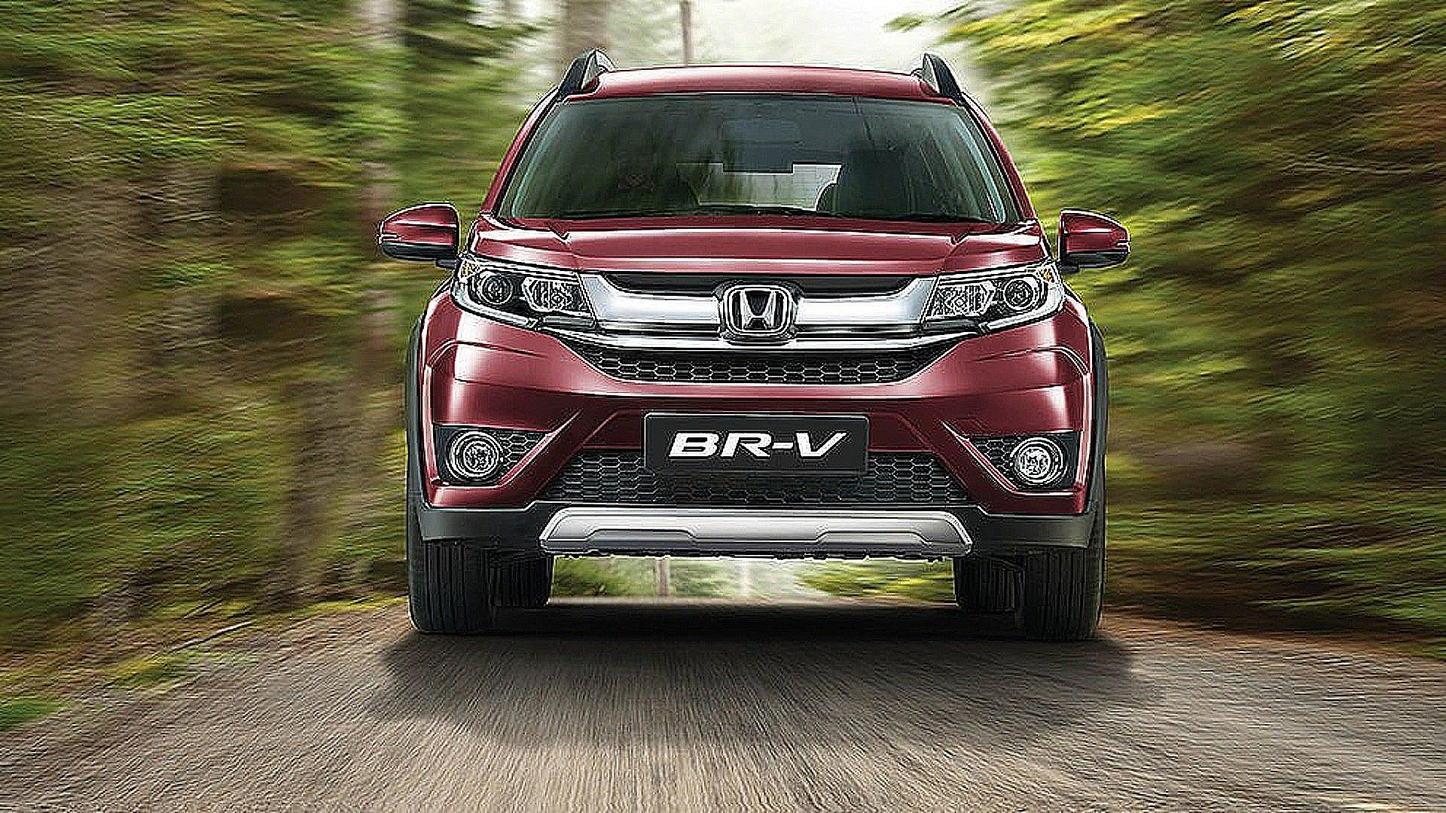Car hood: (467, 206, 1048, 281)
Front bumper: (402, 320, 1115, 567)
Headlight - -L-: (910, 256, 1071, 348)
Headlight - -R-: (444, 244, 604, 340)
Side mirror - -L-: (1047, 202, 1140, 285)
Side mirror - -R-: (365, 194, 470, 277)
